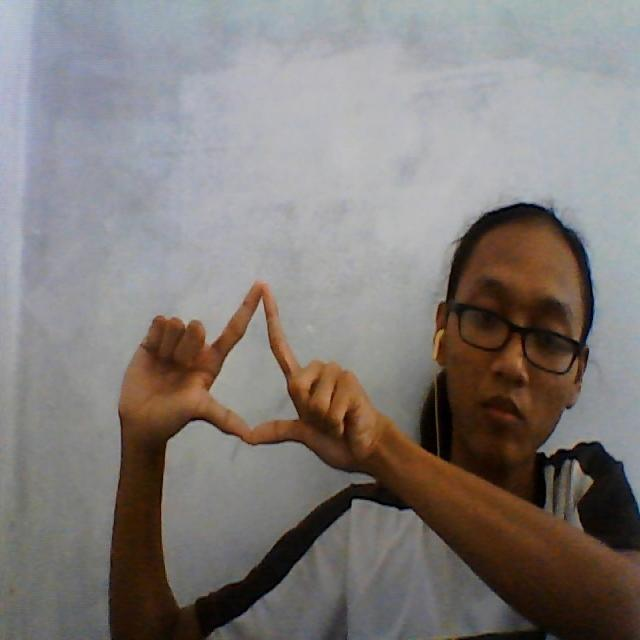A: (124, 264, 372, 462)
